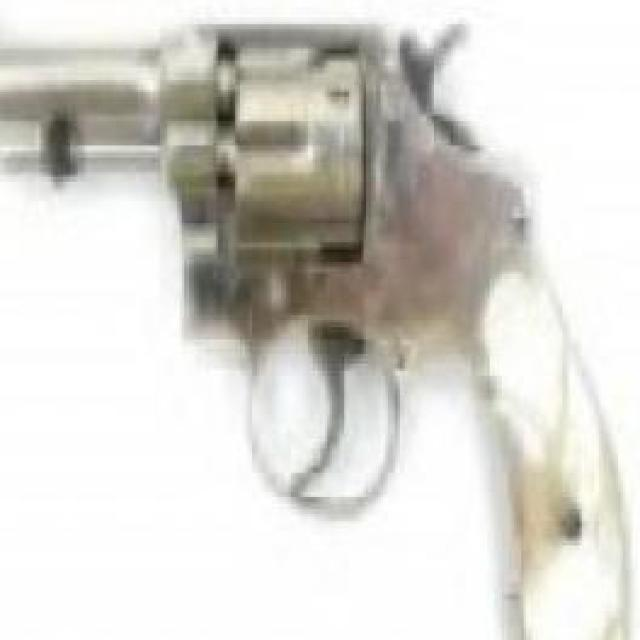pistol: (0, 7, 616, 640)
